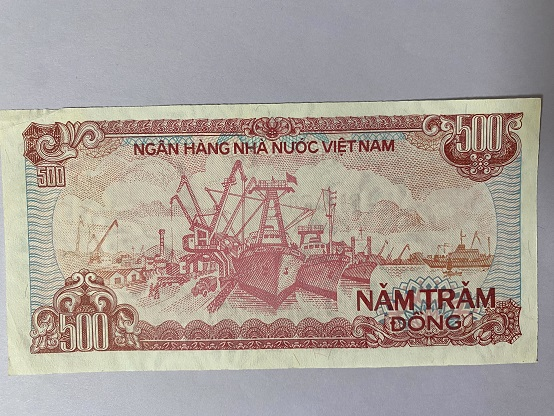500vnd: (7, 107, 539, 372)
